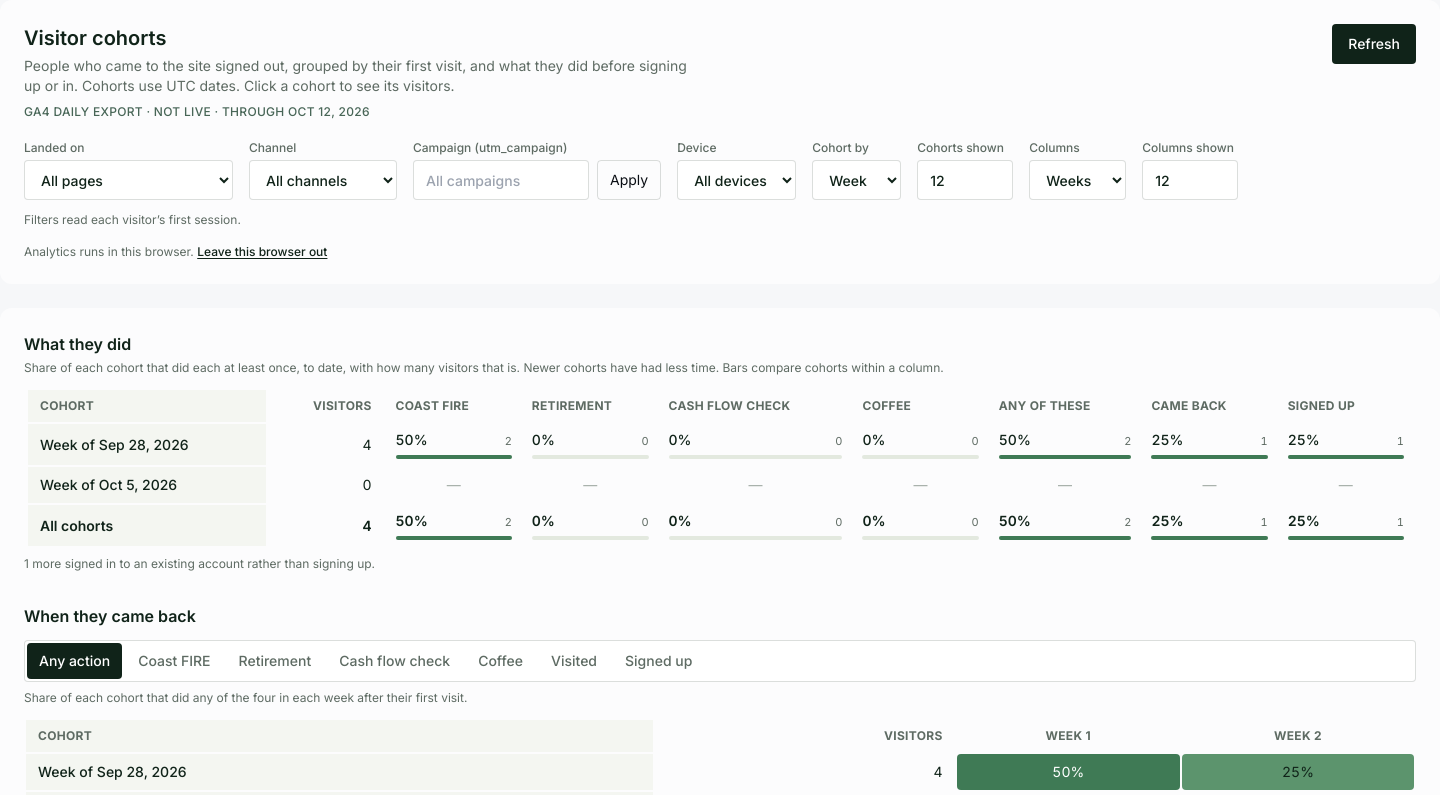
VisitorCohortPanel › lists a cohort’s visitors and each visitor’s sessions
Click the 1st button "Week of Sep 28, 2026". click: (147, 444)
box: [32,430,262,458]
(page scrolled)
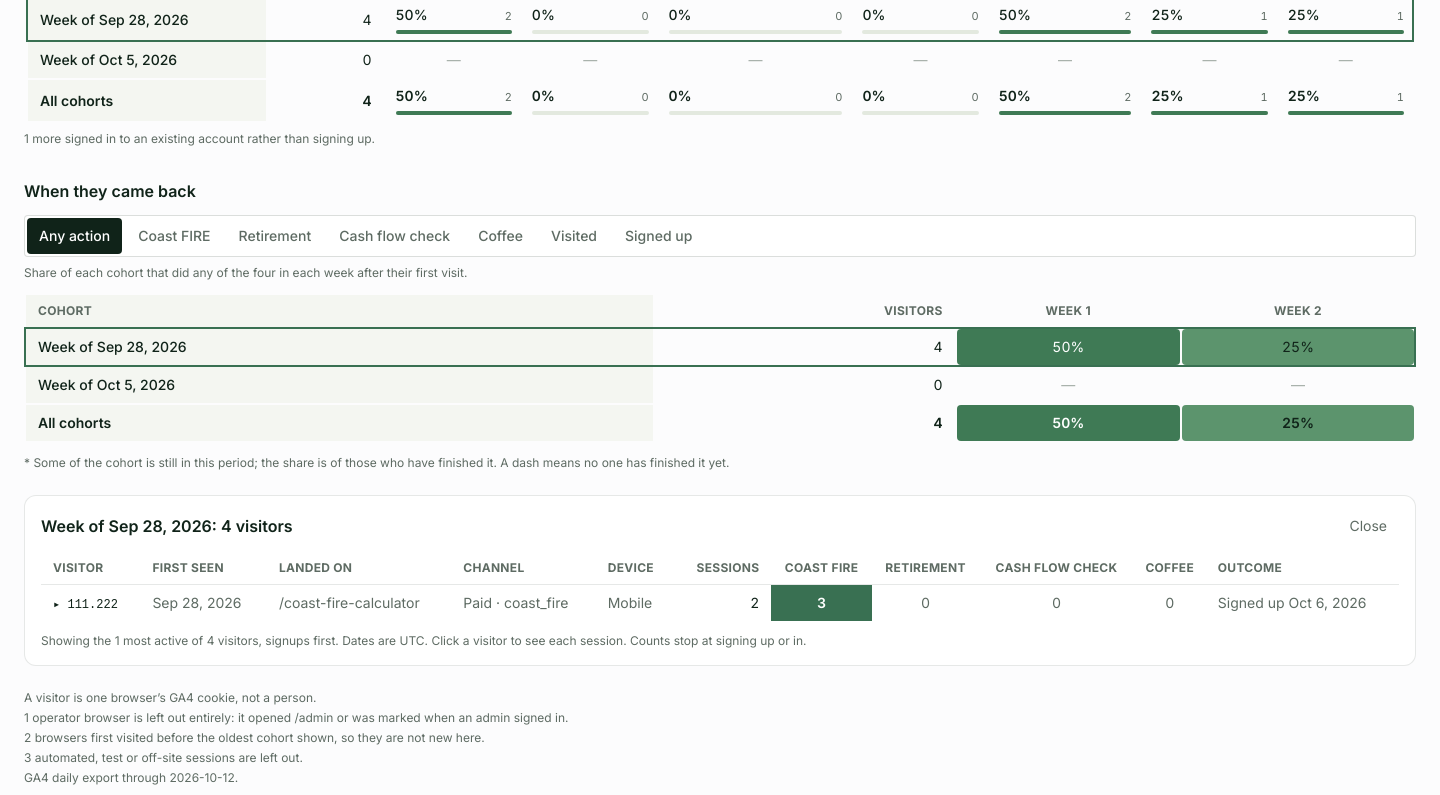
Now the heading "Week of Sep 28, 2026: 4 visitors" is shown, box [41,514,293,538]
Now the text "Paid · coast_fire" is shown, box [451,584,596,621]
Now the text "Signed up Oct 6, 2026" is shown, box [1206,584,1399,621]
Click the button named "Show sessions for visitor 111.222". click: (85, 605)
box: [53,597,118,613]
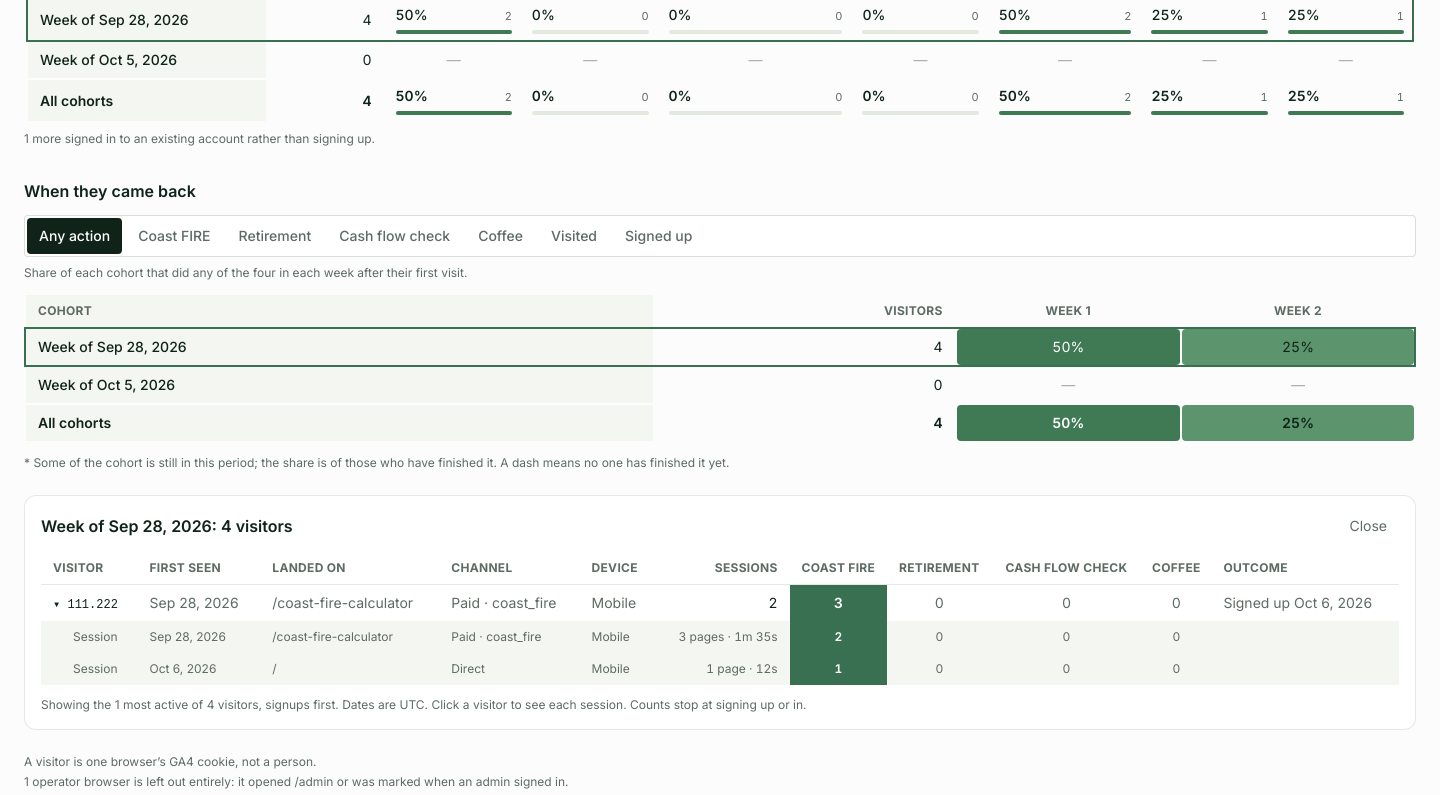
Now the text "Session" is shown 2 times, box [41,621,138,653]; [41,653,138,685]
Now the text "3 pages · 1m 35s" is shown, box [656,621,790,653]
Now the text "1 page · 12s" is shown, box [656,653,790,685]
